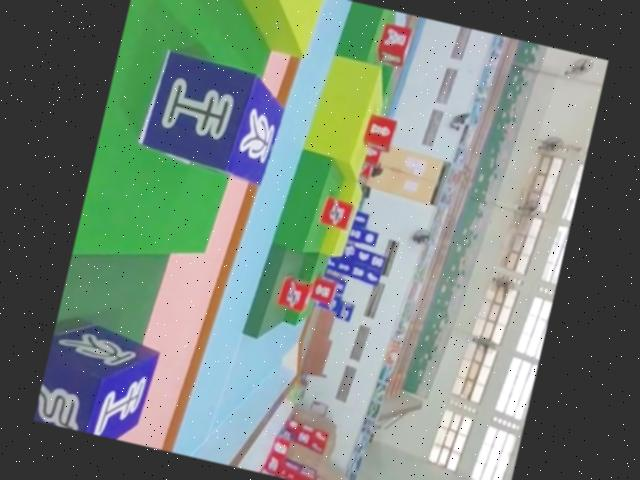R2 Fake Blue: (134, 48, 291, 187), (32, 317, 159, 444)
